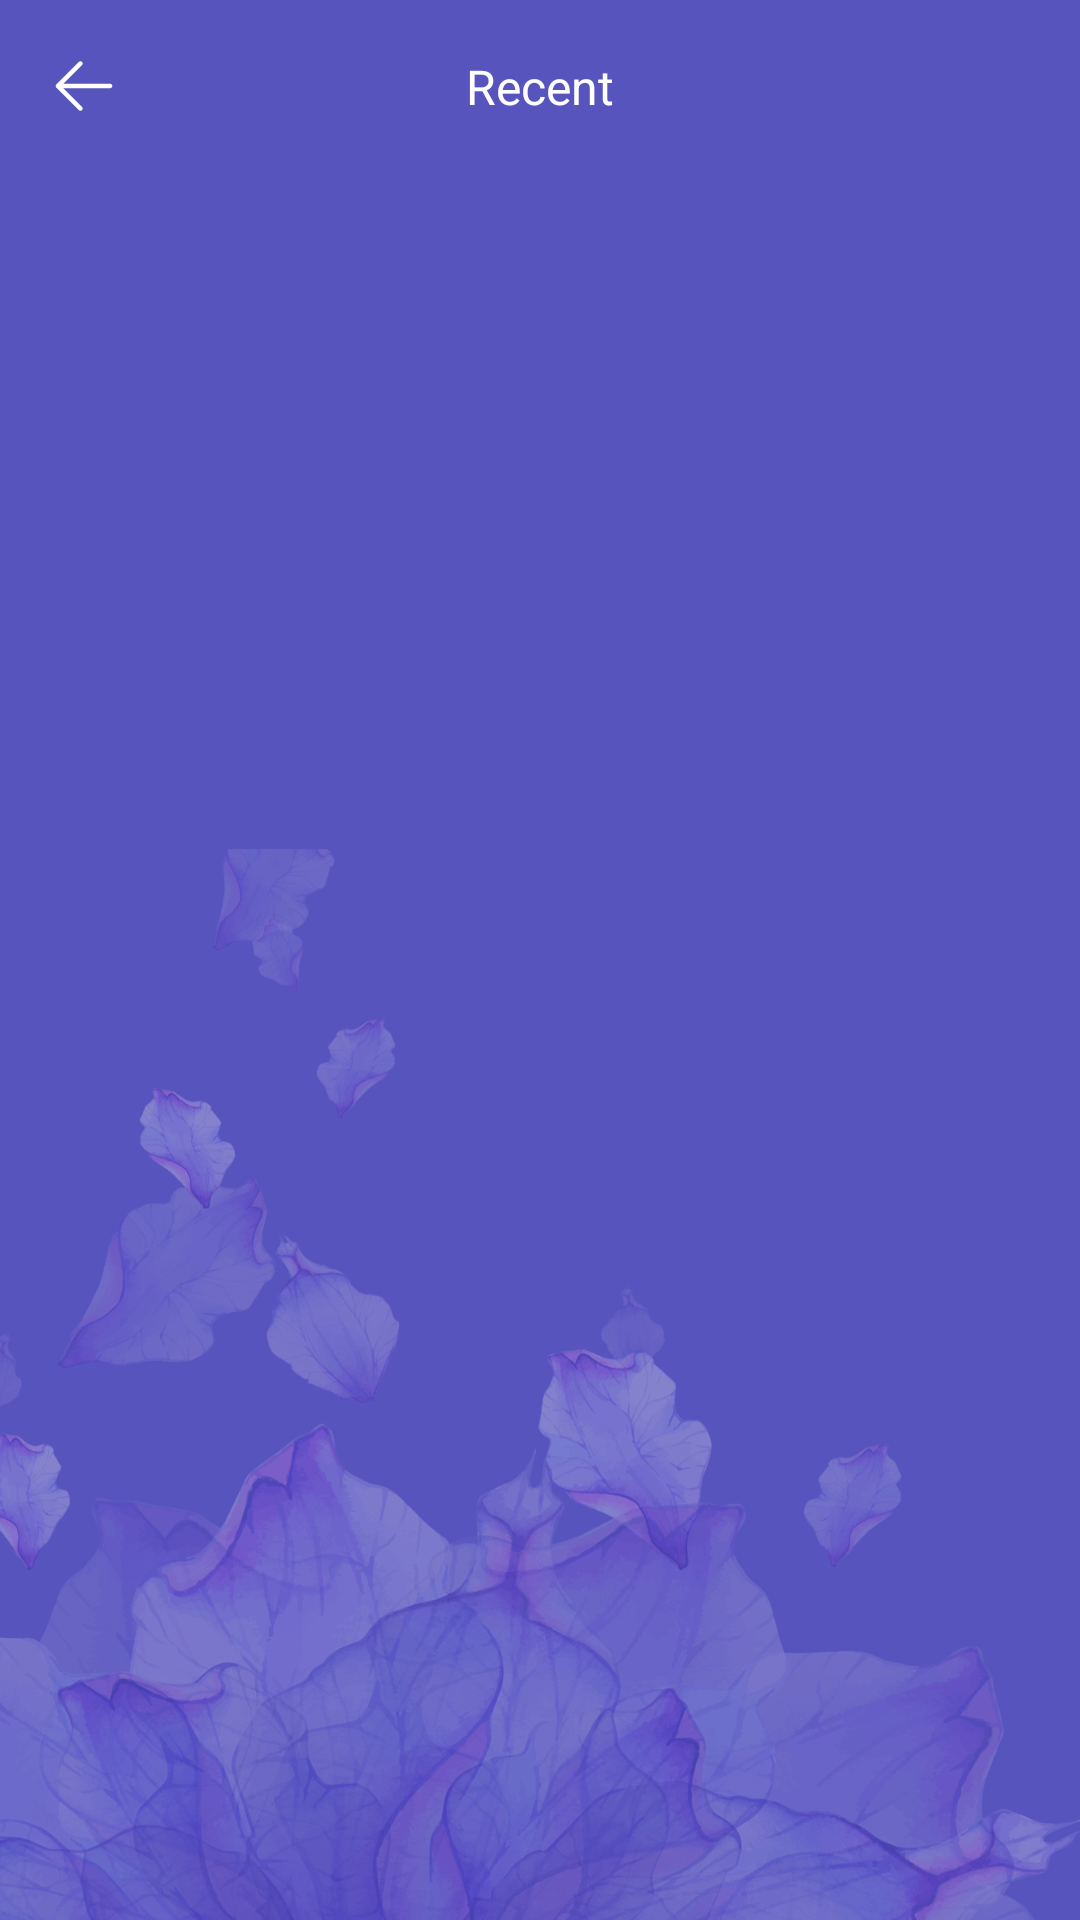

Named icons in this screenshot (1080 × 1920) and their centers, point (x, y):
back: point (84, 86)
